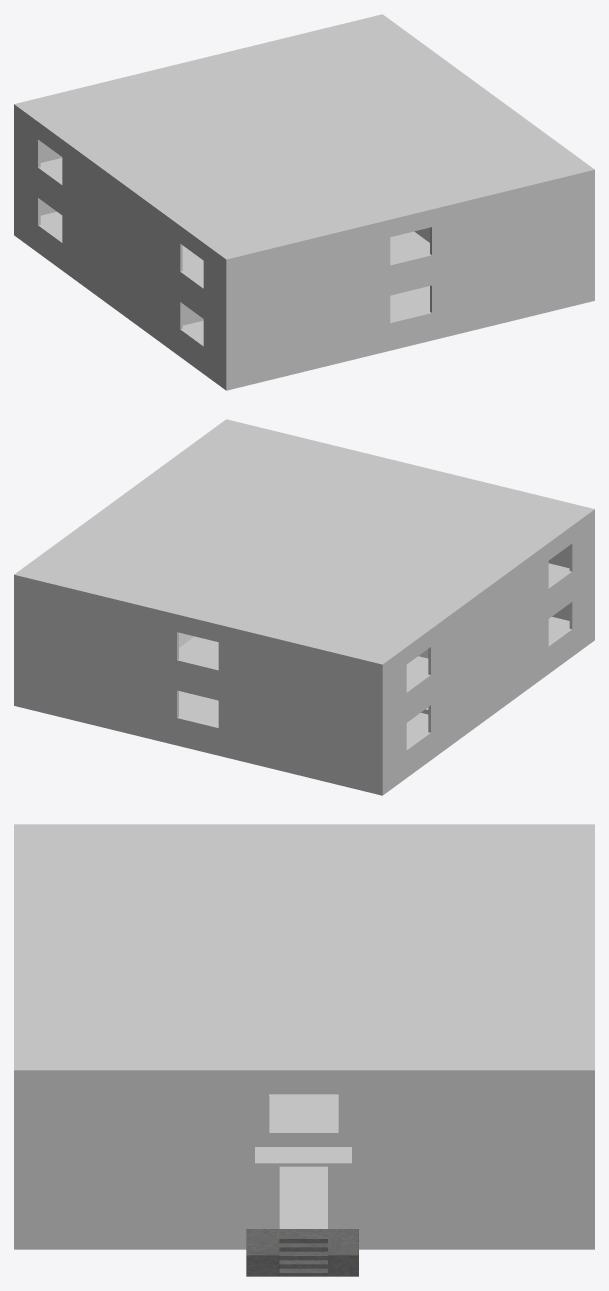
3 views of the same model, one above another, from view 1: azimuth 30°, elevation 25°; view 2: azimuth 150°, elevation 25°; view 3: azimuth 270°, elevation 25° (orthographic). The views are drawn at different scales.
Parts seen in each view (by area): view 1: Cube.001; view 2: Cube.001; view 3: Cube.001, wall-door.001_Plane.005.
Part boxes in pixels (x1,y1,x2,y2): Cube.001: (14, 14, 594, 390); Cube.001: (14, 419, 594, 795); Cube.001: (14, 824, 594, 1249); wall-door.001_Plane.005: (246, 1229, 358, 1276).
Size of what is drawn, in the model's own units: 13.3 by 4.1 by 11.99.
Materials: 3 (1 with a texture image).
